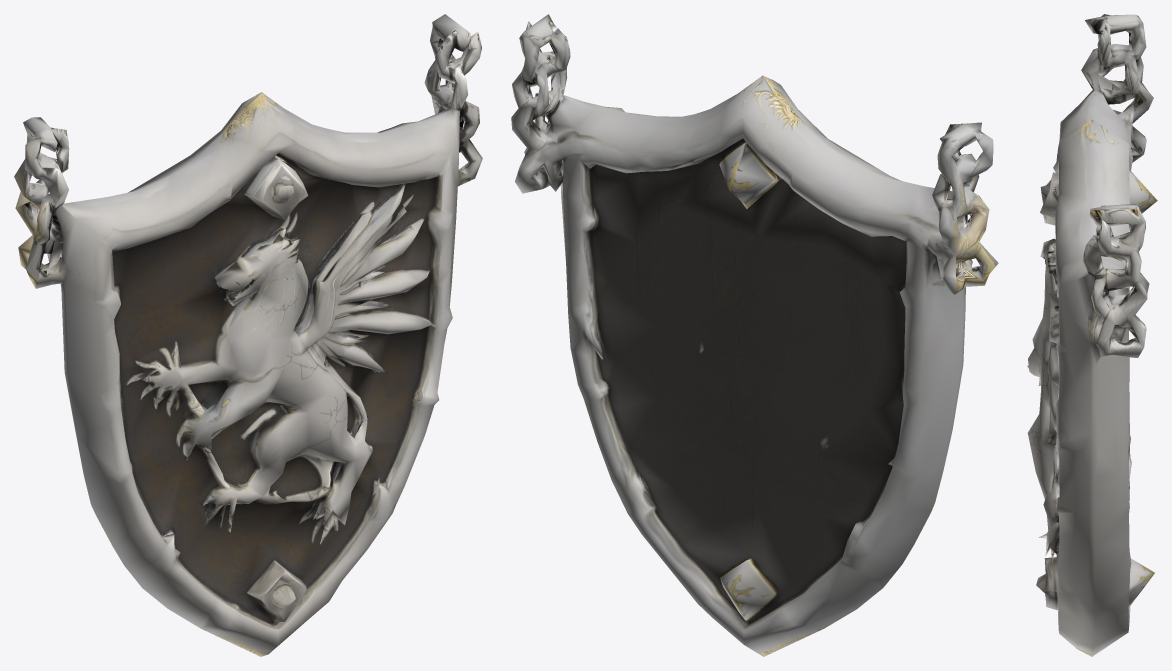
Rendered from Sigil of Oath.fbx.
3 renders of one model, left to right at view 1: azimuth 30°, elevation 25°; view 2: azimuth 150°, elevation 25°; view 3: azimuth 270°, elevation 25°, orthographic. The views are drawn at different scales.
Visible parts, largest first — view 1: input; view 2: input; view 3: input.
Boxes of the visible parts, <box> form: input: <box>14,14,482,656</box>; input: <box>511,14,998,656</box>; input: <box>1027,14,1157,656</box>.
Bounding box in the file's own units: 83.65 × 100 × 21.63.
1 material, 1 textured.
